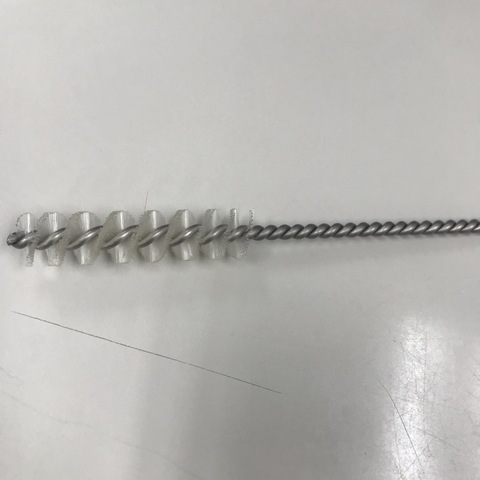Twist Brush-B: (5, 208, 480, 272)
